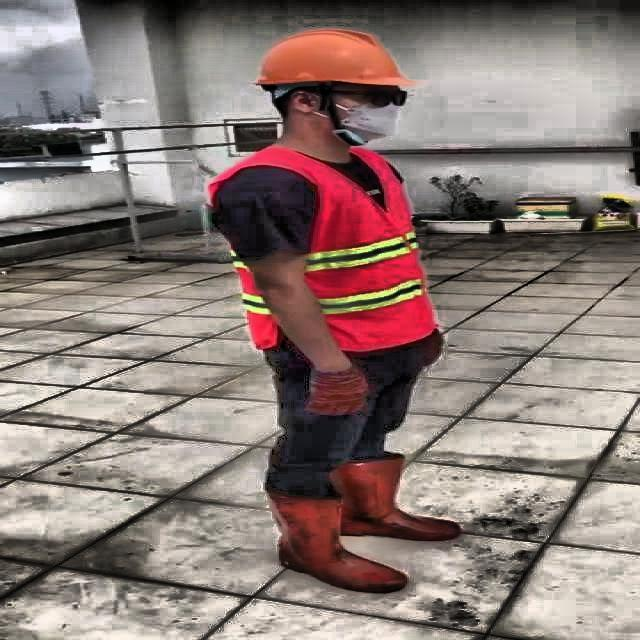safety_helmet: (260, 33, 426, 98)
safety_jacket: (207, 147, 437, 349)
